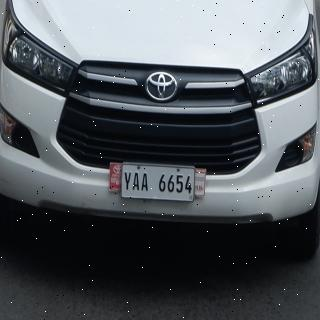license: (122, 164, 196, 202)
